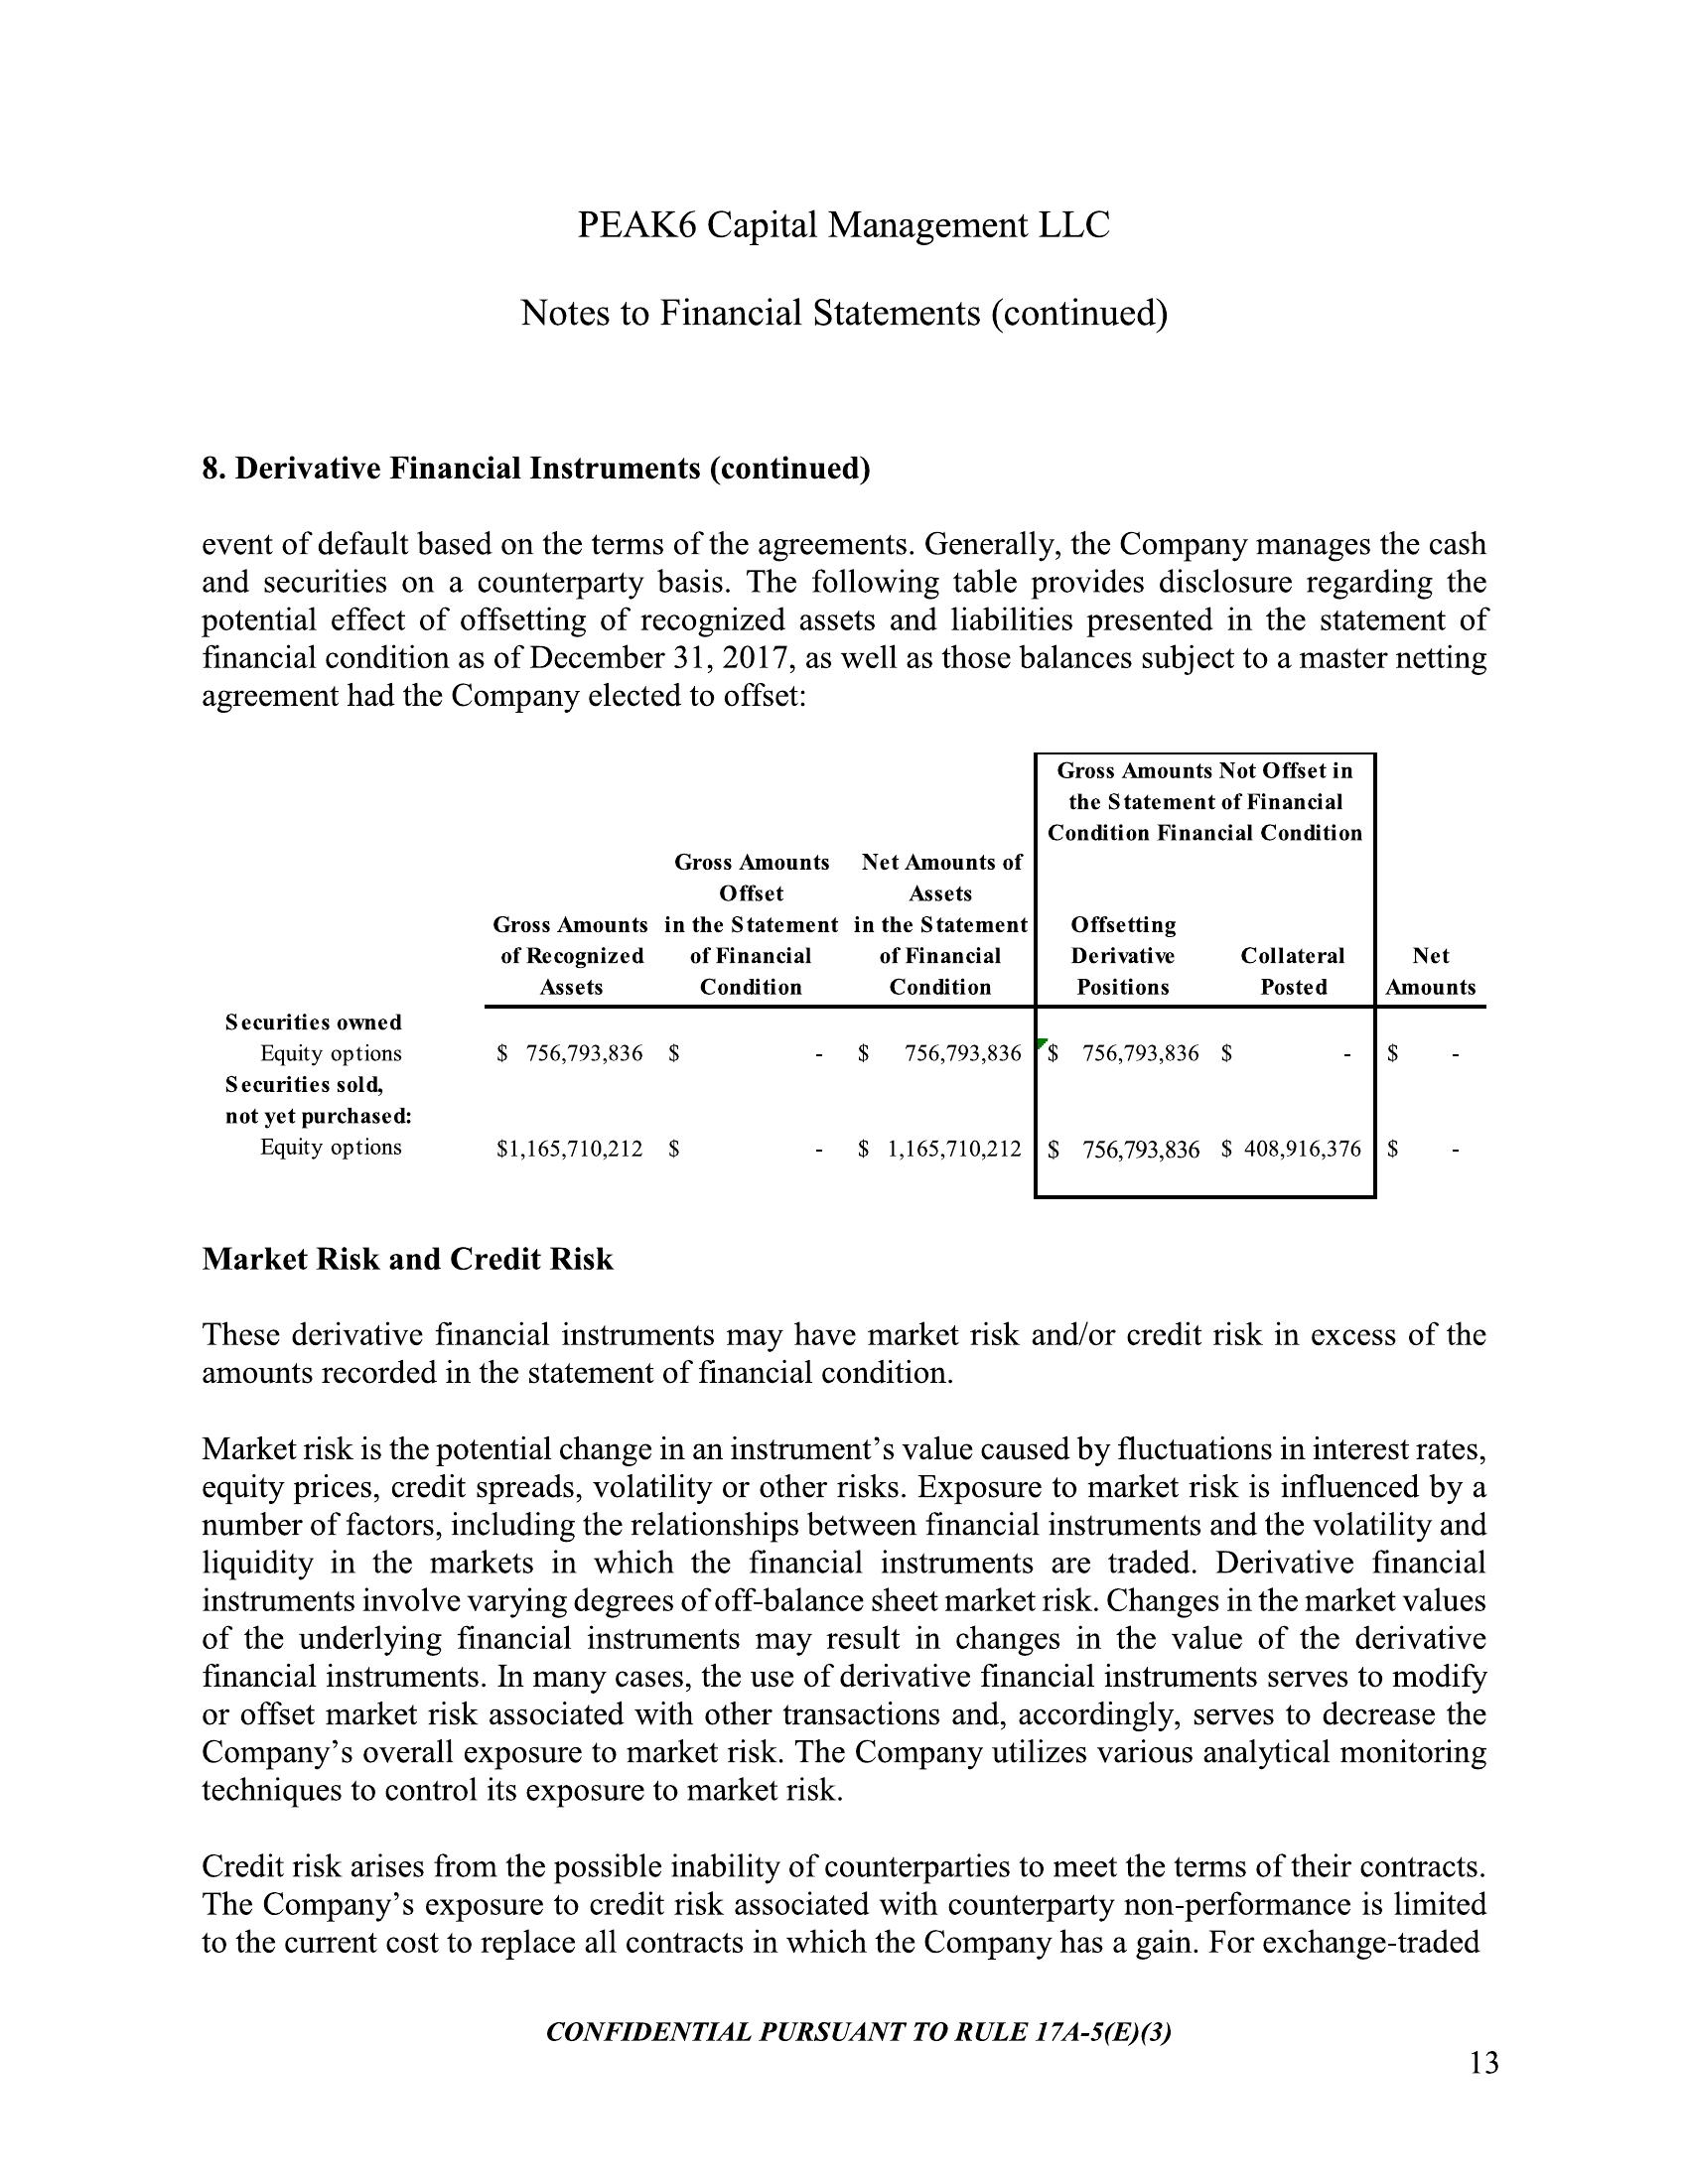table: (202, 752, 1493, 1202)
